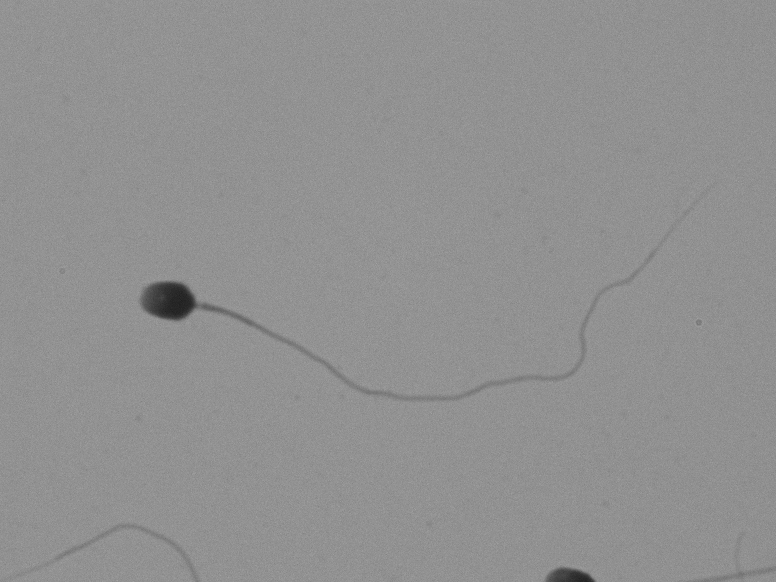Normal: (68, 170, 729, 434)
